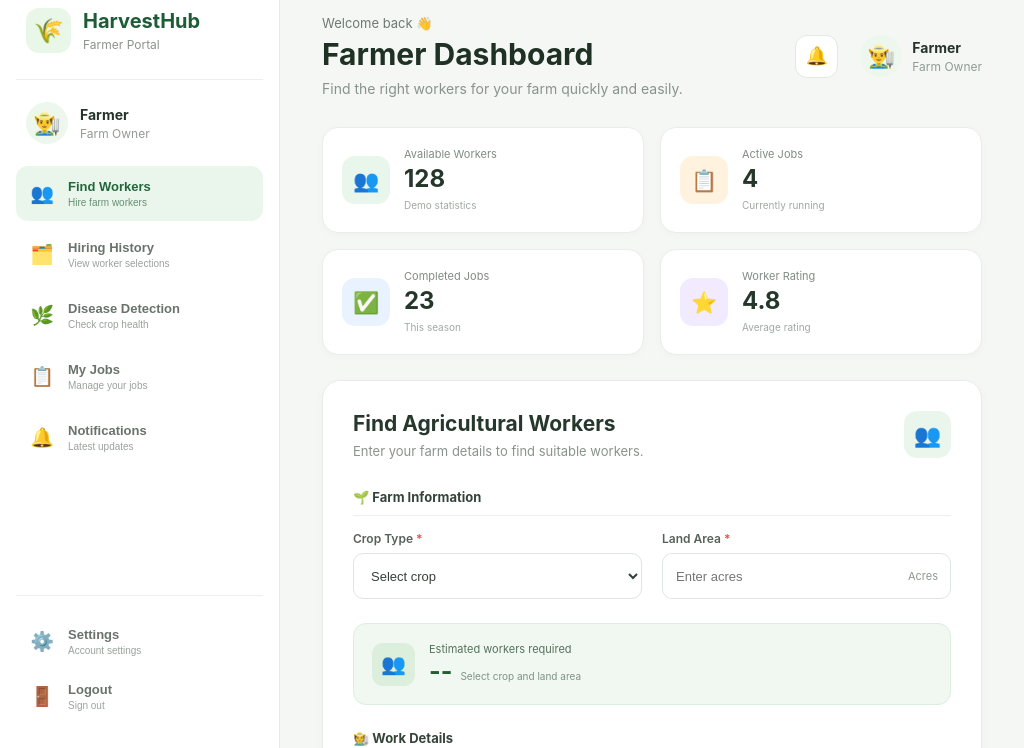
confirms hiring only after backend acknowledges the SMS
Step 1. Select "🌾 Wheat" in the dropdown → (498, 576), box [353, 553, 642, 599]
(page scrolled)
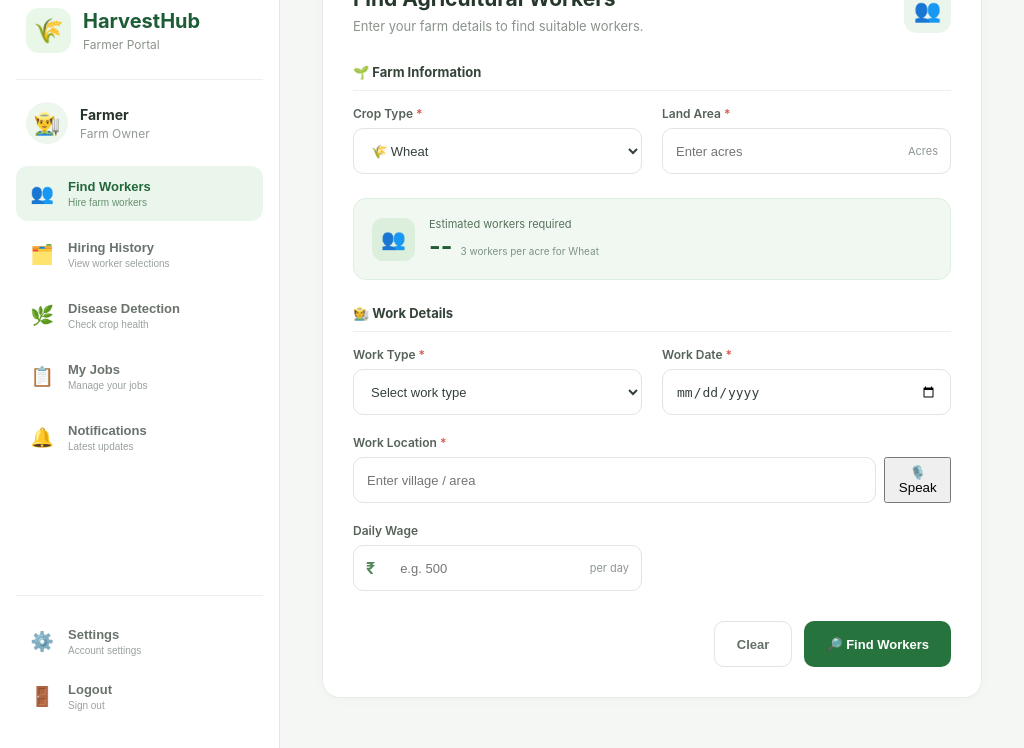
Step 2. Select "Pruning" in the dropdown below "Work Type" → (498, 392), box [353, 369, 642, 415]
Step 3. Type "1" into the number field with placeholder "Enter acres" → (779, 151), box [663, 128, 896, 174]
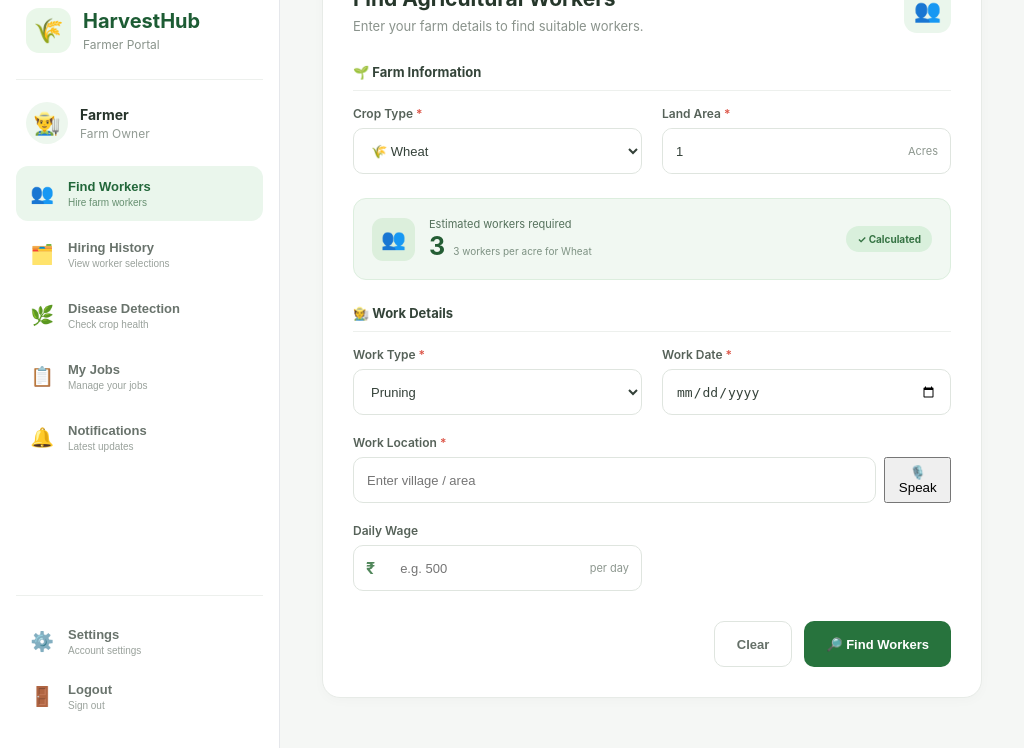
Step 4. Type "2030-01-01" into the date field → (806, 392), box [662, 369, 951, 415]
Step 5. Type "East Godavari" into the field with placeholder "Enter village / area" → (615, 480), box [353, 457, 876, 503]
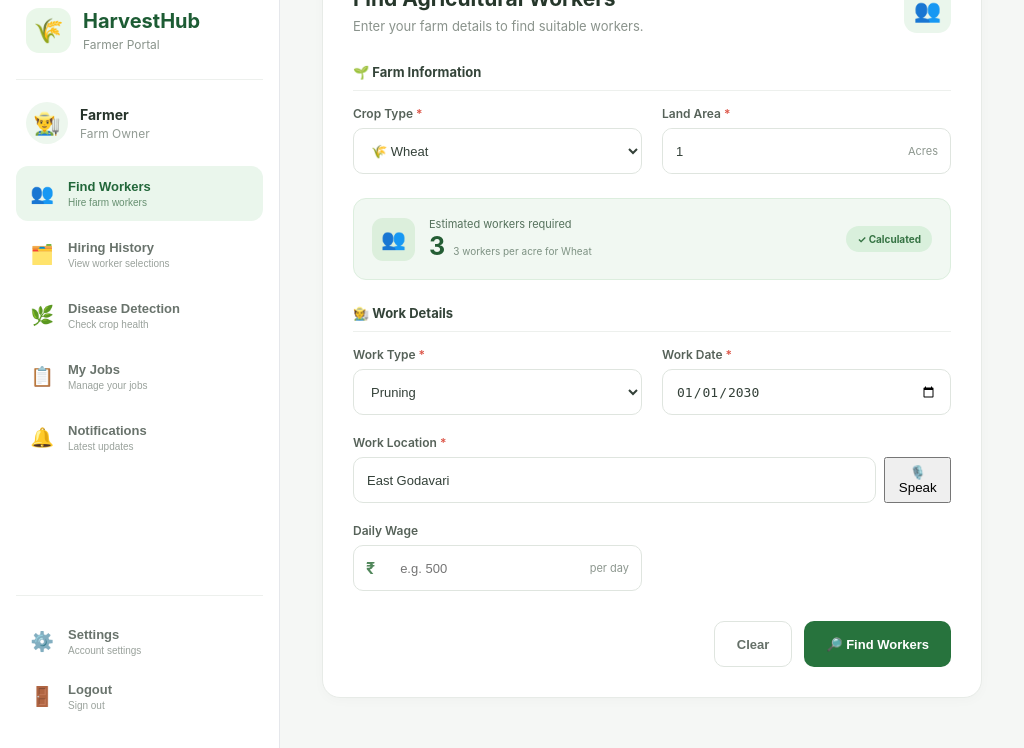
Step 6. Submit the form, box [353, 64, 951, 667]
(page scrolled)
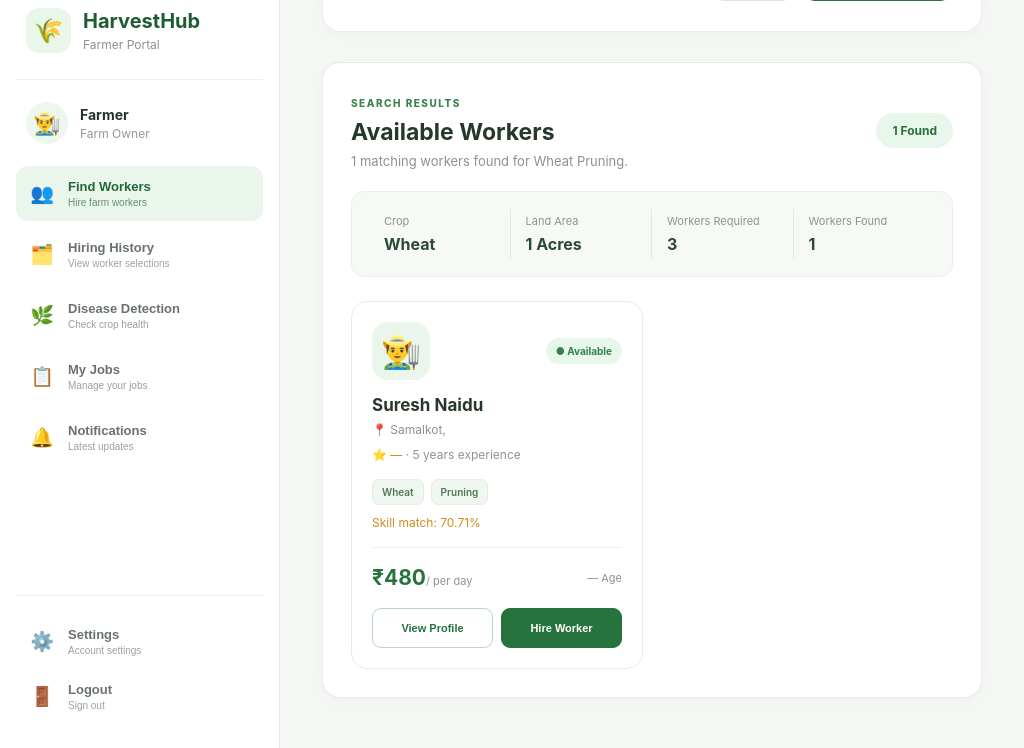
expect the button "Hire Worker" is shown: met
Step 7. Click the button "Hire Worker" → (562, 628), box [501, 608, 622, 648]
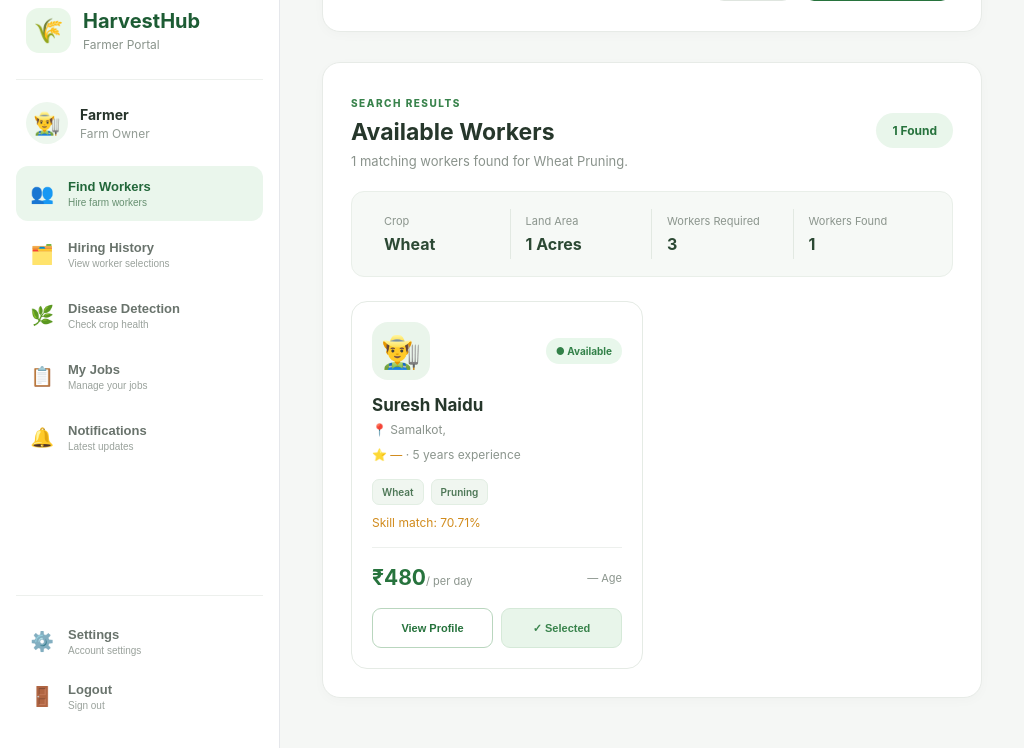
Step 8. Click the button "🗂️ Hiring History View worker selections" → (140, 254), box [16, 227, 263, 282]
(page scrolled)
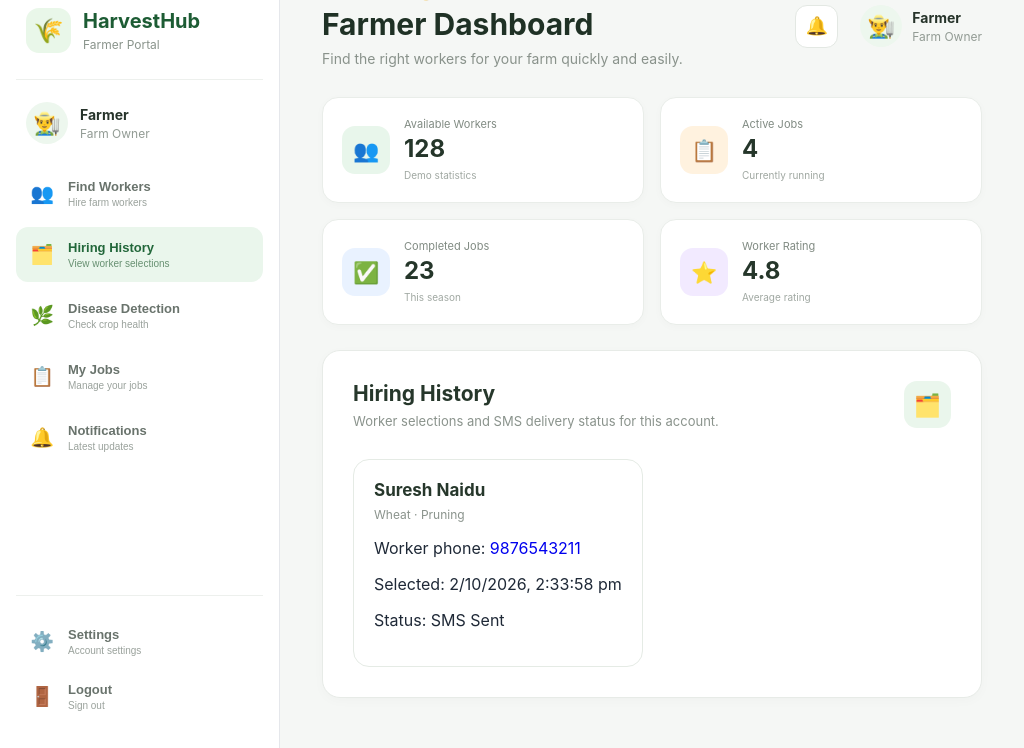
expect the heading "Suresh Naidu" is shown: met, box [374, 480, 485, 500]
expect the text "Status: SMS Sent" is shown: met, box [374, 610, 505, 630]
